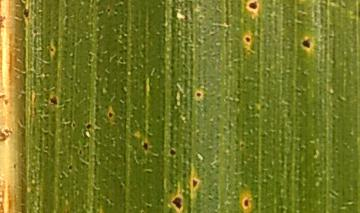tarspot: (168, 196, 187, 211), (47, 92, 61, 109), (300, 35, 314, 52), (19, 6, 33, 20), (245, 1, 259, 14), (82, 121, 95, 133), (166, 145, 178, 158), (188, 177, 201, 189), (139, 139, 150, 152), (240, 196, 251, 209), (193, 89, 204, 102), (46, 44, 57, 56), (106, 108, 115, 122), (242, 34, 253, 45), (64, 162, 76, 172), (32, 27, 39, 37)
